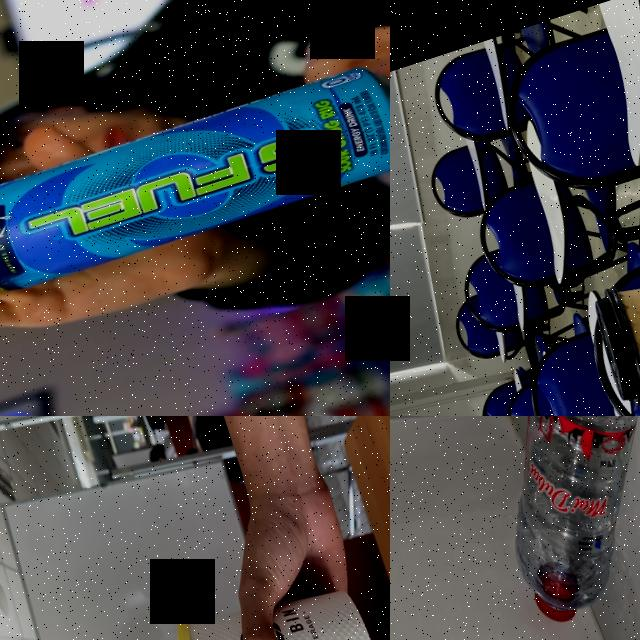bottle: (427, 416, 640, 624)
can: (0, 54, 390, 313)
cup: (154, 551, 390, 640), (585, 251, 640, 411)
